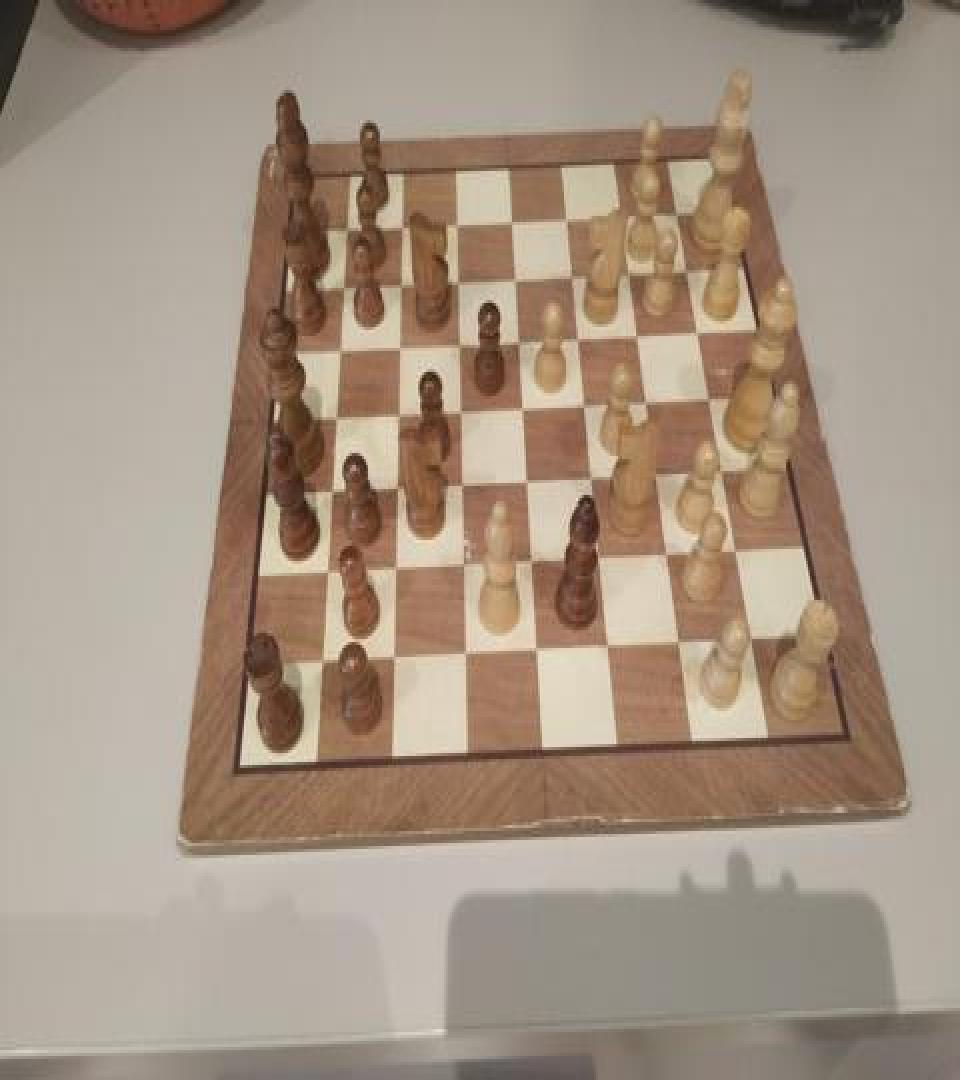xcorner: (513, 394, 531, 422), (638, 388, 656, 416), (328, 334, 346, 362), (449, 328, 467, 356), (562, 262, 580, 290), (677, 256, 695, 284), (335, 214, 353, 242), (611, 202, 629, 230), (312, 648, 330, 675), (384, 645, 402, 672), (456, 640, 474, 667), (600, 633, 618, 660), (672, 630, 690, 657), (316, 558, 334, 585), (385, 555, 403, 582), (454, 552, 472, 579), (523, 549, 541, 576), (591, 545, 609, 572), (728, 538, 746, 565), (321, 477, 339, 504), (387, 474, 405, 501), (452, 471, 470, 498), (518, 468, 536, 495), (583, 465, 601, 492), (648, 462, 666, 489), (713, 459, 731, 486), (325, 402, 343, 429), (388, 399, 406, 426), (450, 397, 468, 424), (700, 386, 718, 413), (389, 331, 407, 358), (509, 327, 527, 354), (569, 324, 587, 351), (628, 321, 646, 348), (688, 318, 706, 345), (390, 270, 408, 297), (447, 267, 465, 294), (505, 264, 523, 291), (390, 212, 408, 239), (446, 210, 464, 237), (501, 207, 519, 234), (666, 201, 684, 228), (529, 638, 547, 664), (743, 626, 761, 652), (660, 542, 678, 568), (576, 392, 594, 418), (332, 272, 350, 298), (619, 260, 637, 286), (556, 206, 574, 232)
